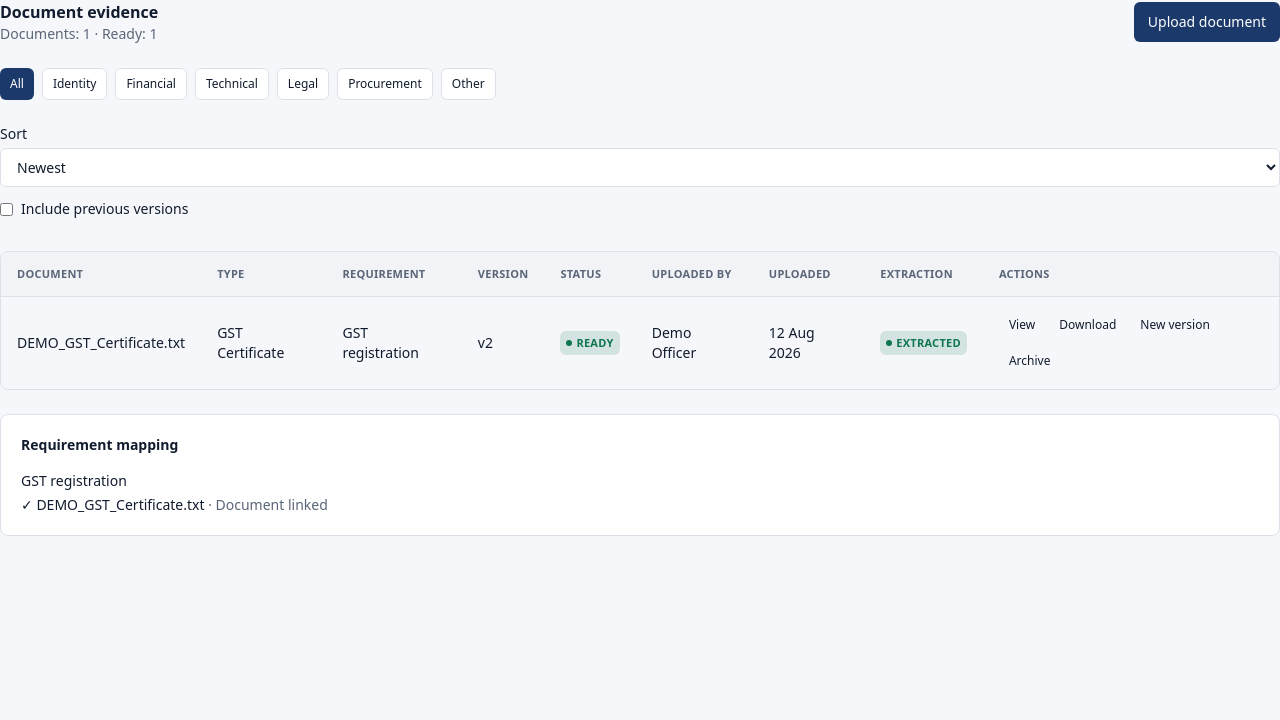
Test: BidDocumentsPanel › opens replace/new version from the current document
Click the button "New version" at (1175, 325), box [1130,309,1220,341]
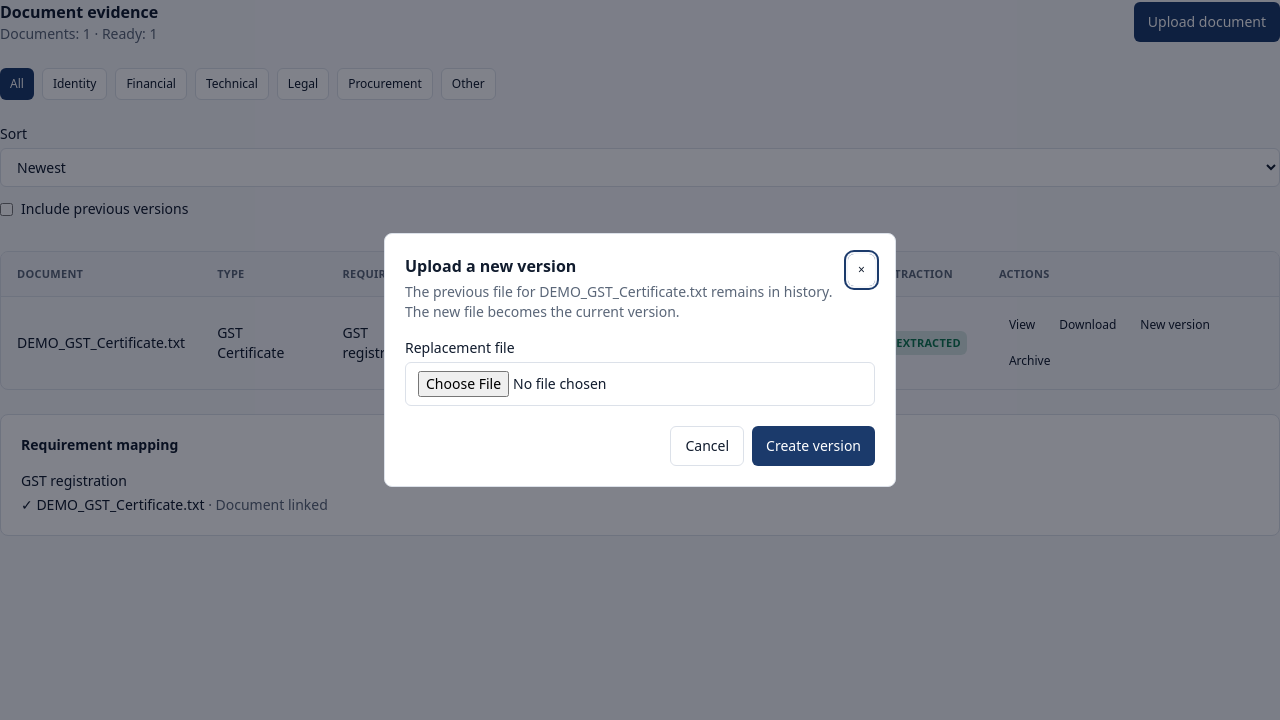
Now the heading "Upload a new version" is shown, box [405,255,576,277]
